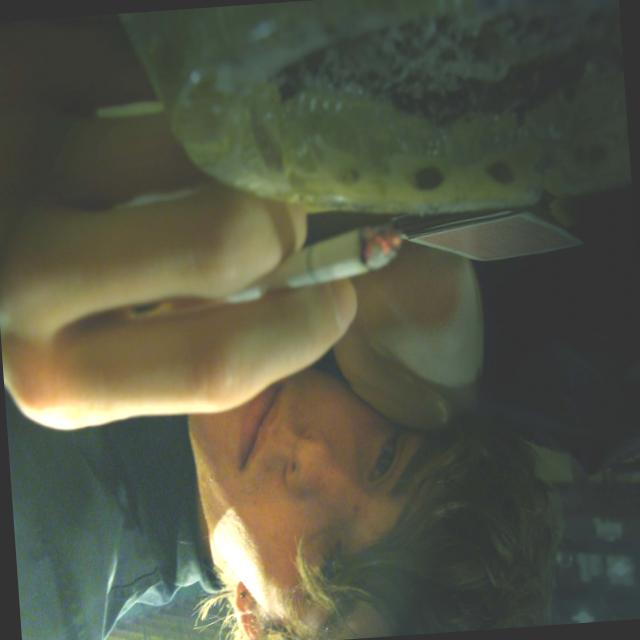smoke: (136, 191, 436, 365)
